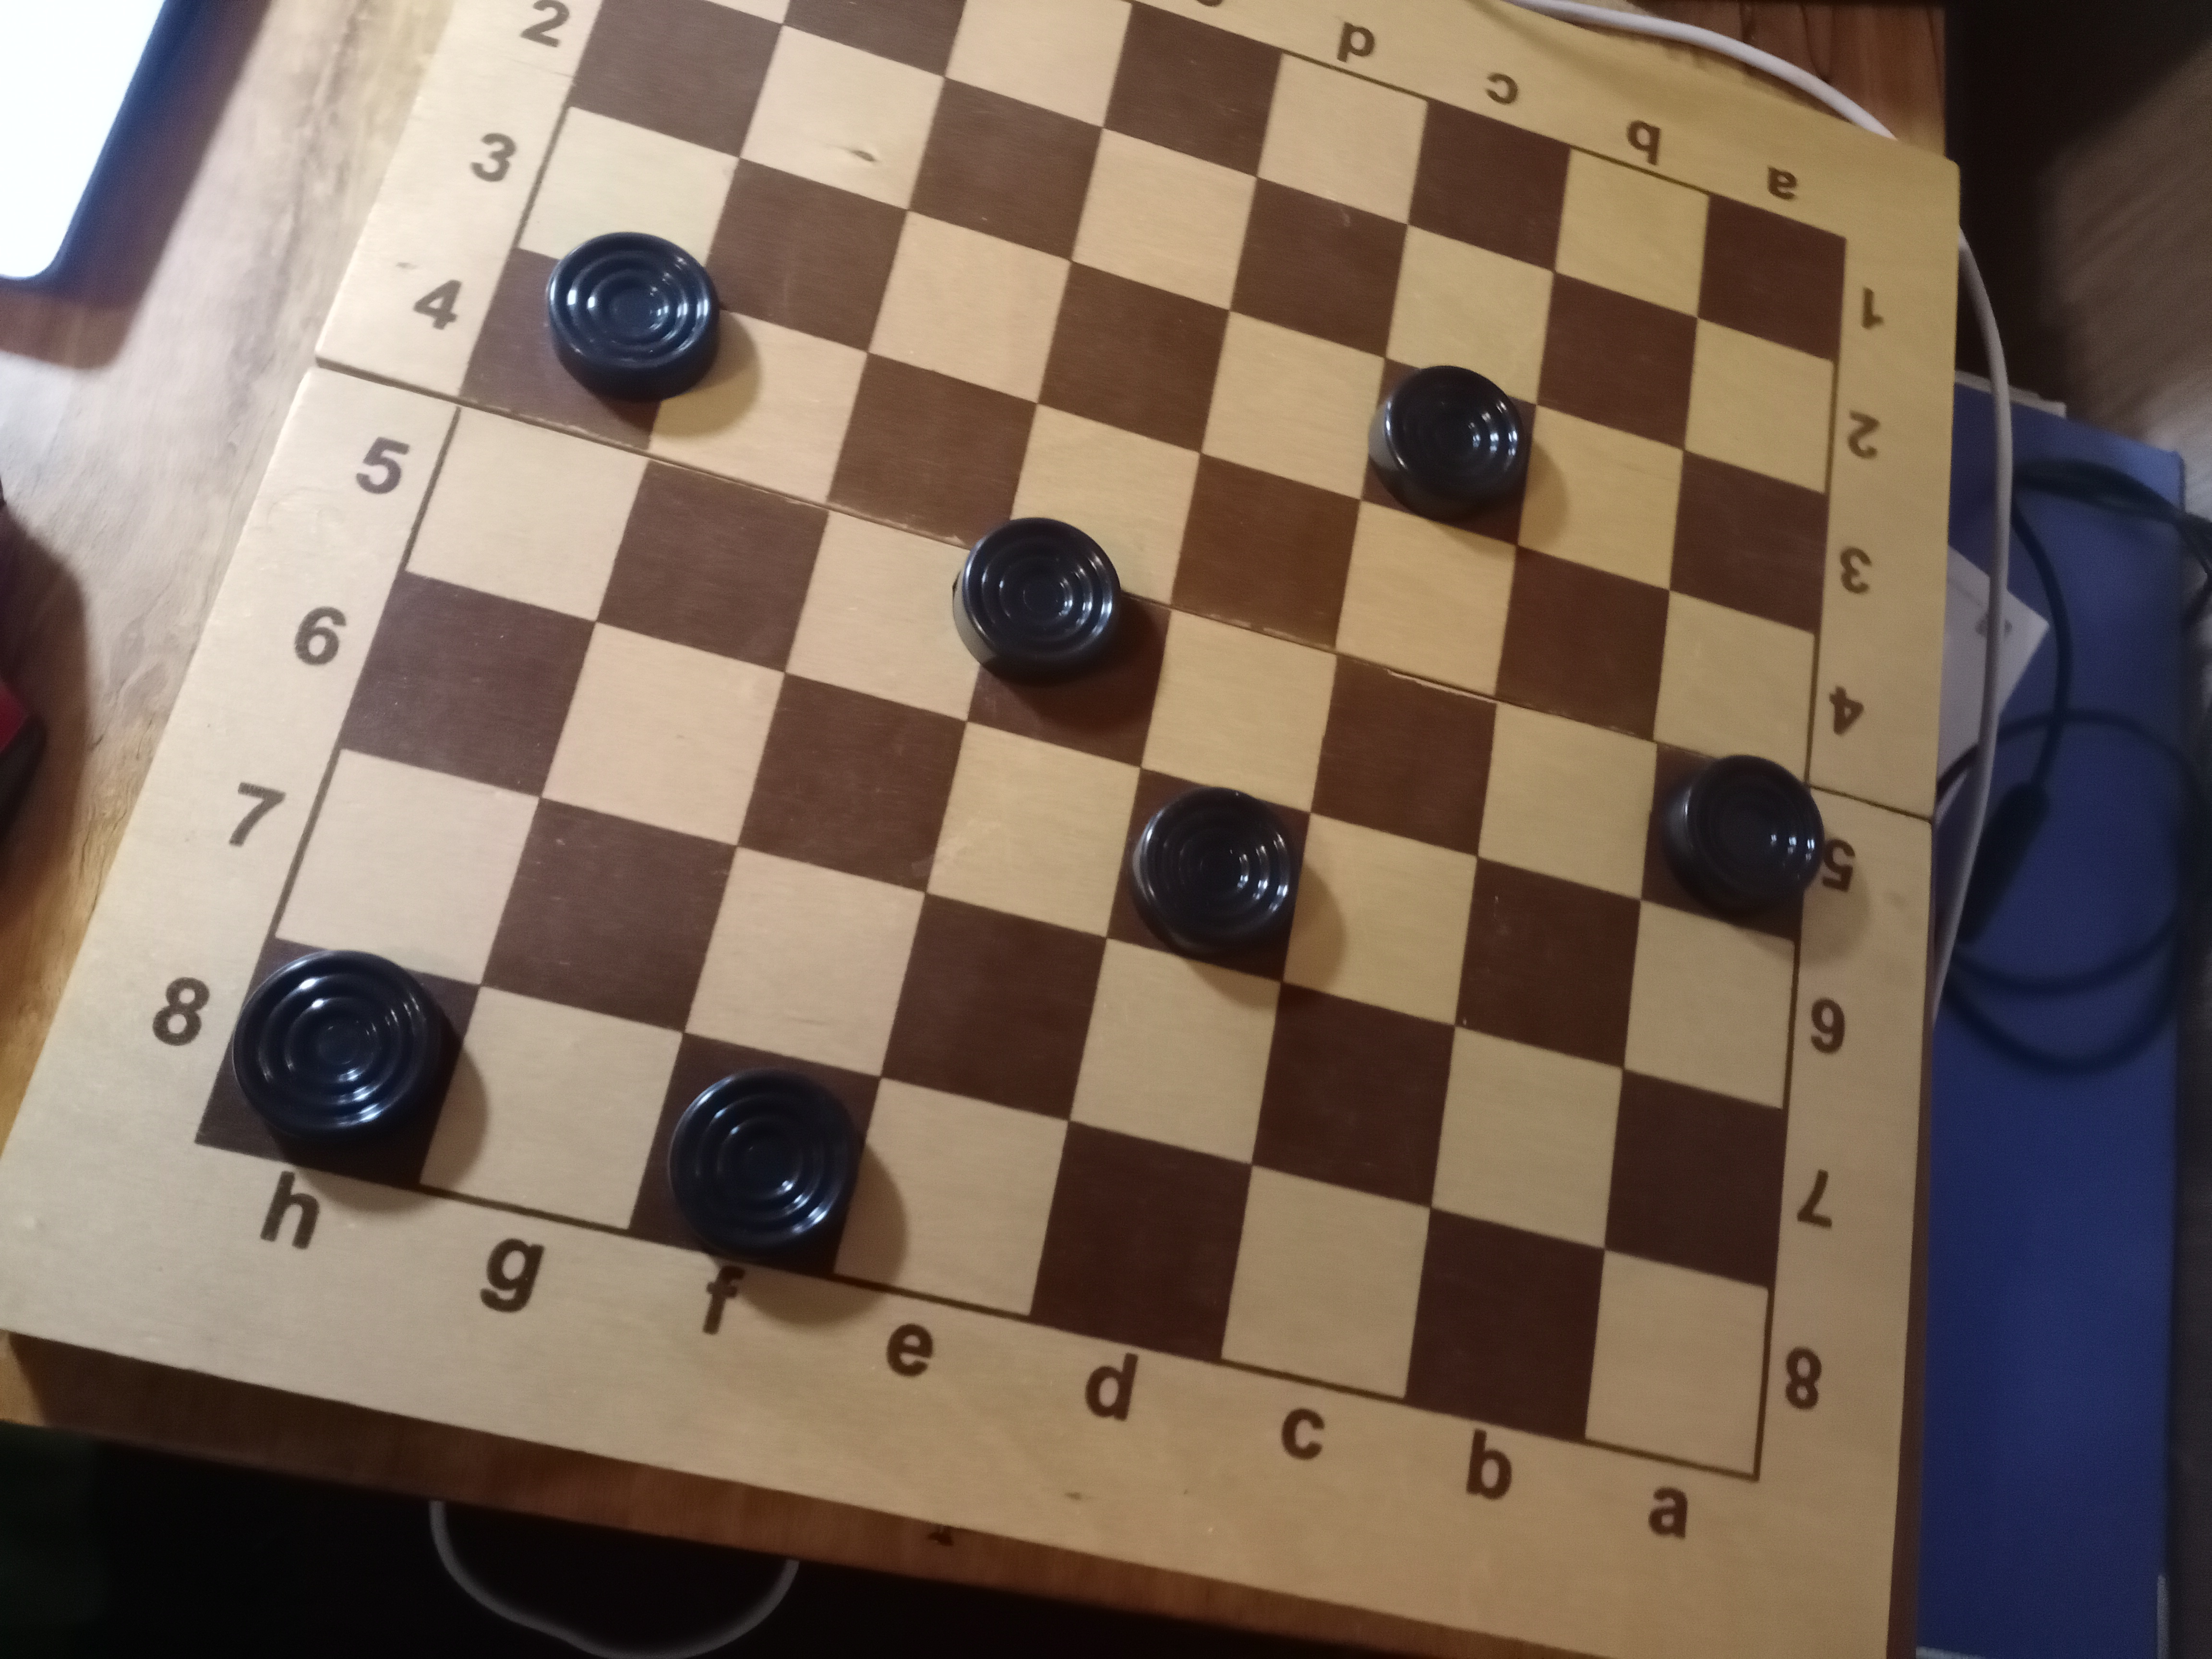Black_Draught: (199, 938, 481, 1192), (627, 1033, 881, 1281), (463, 232, 723, 453), (951, 518, 1170, 767), (1108, 769, 1312, 983), (1642, 744, 1825, 943), (1359, 357, 1538, 547)
